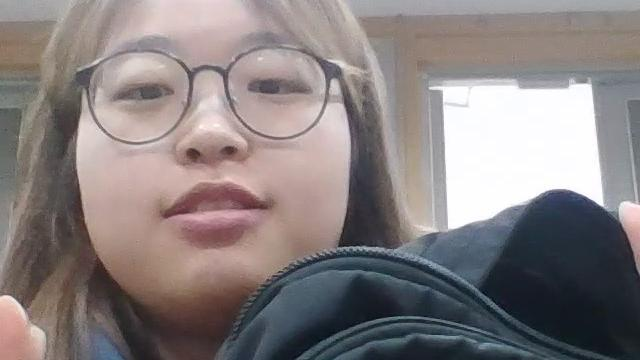eye: (140, 83, 162, 103), (260, 78, 279, 96)
iris: (249, 79, 304, 96), (120, 84, 175, 100)
